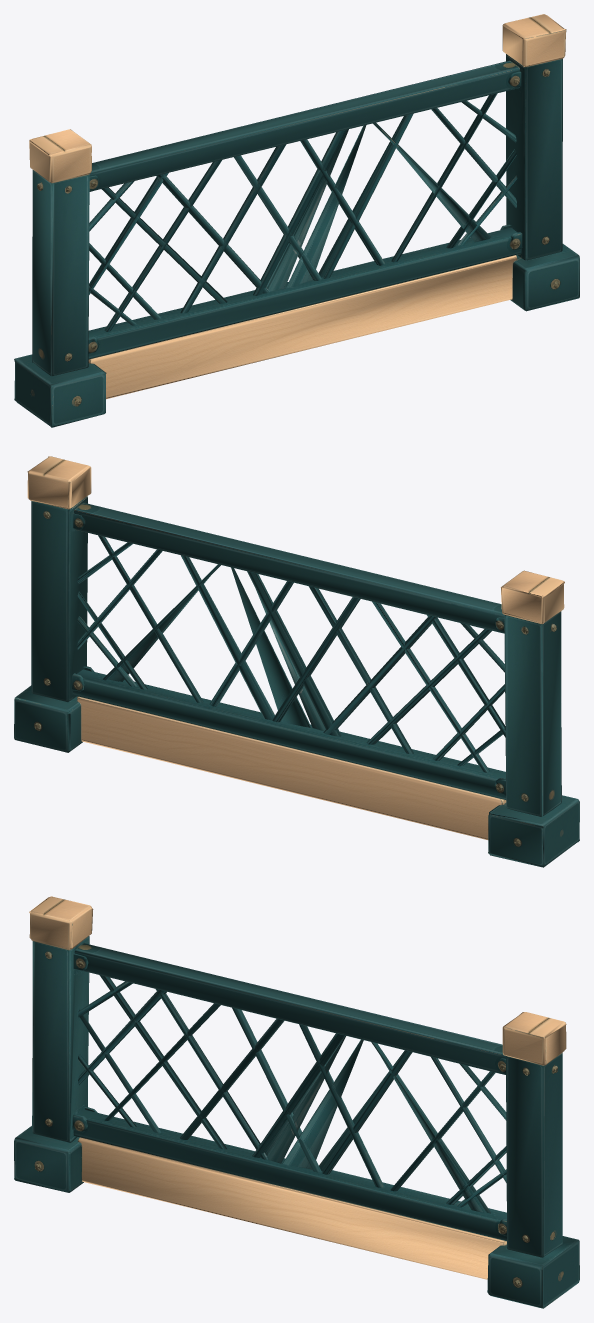
File: park-tennis-fence-panel.glb
The picture shows the model from 3 angles, top to bottom: view 1: azimuth 30°, elevation 25°; view 2: azimuth 150°, elevation 25°; view 3: azimuth 330°, elevation 25°; orthographic projection.
Visible parts, largest first — view 1: Mesh_0.001; view 2: Mesh_0.001; view 3: Mesh_0.001.
Part boxes in pixels (x1=…): Mesh_0.001: x1=14, y1=14, x2=579, y2=427; Mesh_0.001: x1=14, y1=456, x2=579, y2=867; Mesh_0.001: x1=14, y1=896, x2=579, y2=1308.
Bounding box in the file's own units: 0.2487 × 0.12 × 0.0333.
Materials: 1 (1 with a texture image).
